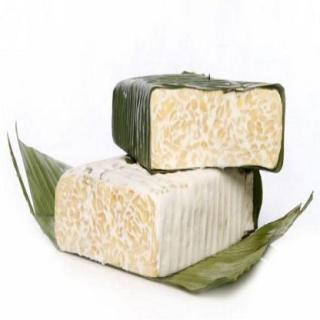Tempe: (50, 155, 257, 280), (109, 69, 290, 174)
